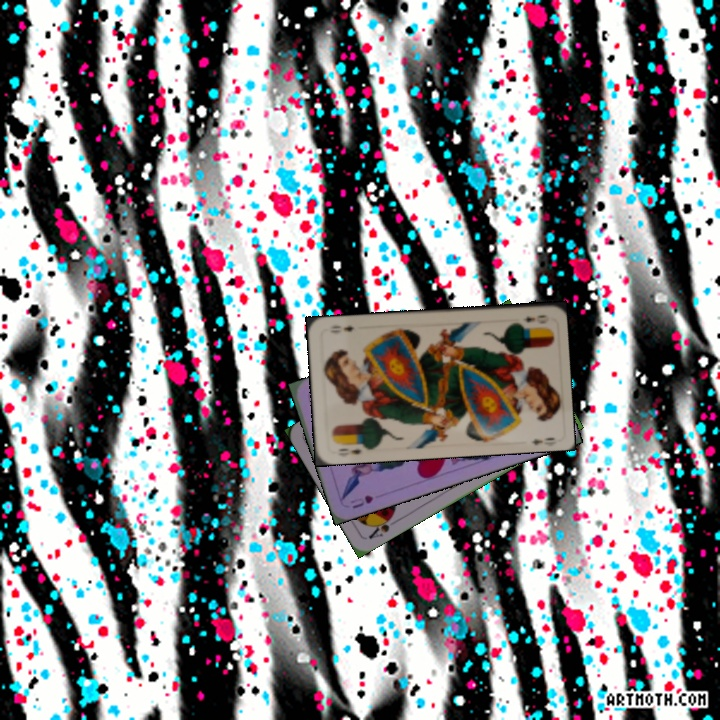EO: (331, 439, 370, 457), (519, 311, 551, 326)
HU: (346, 491, 376, 511)
SA: (364, 510, 397, 541)
